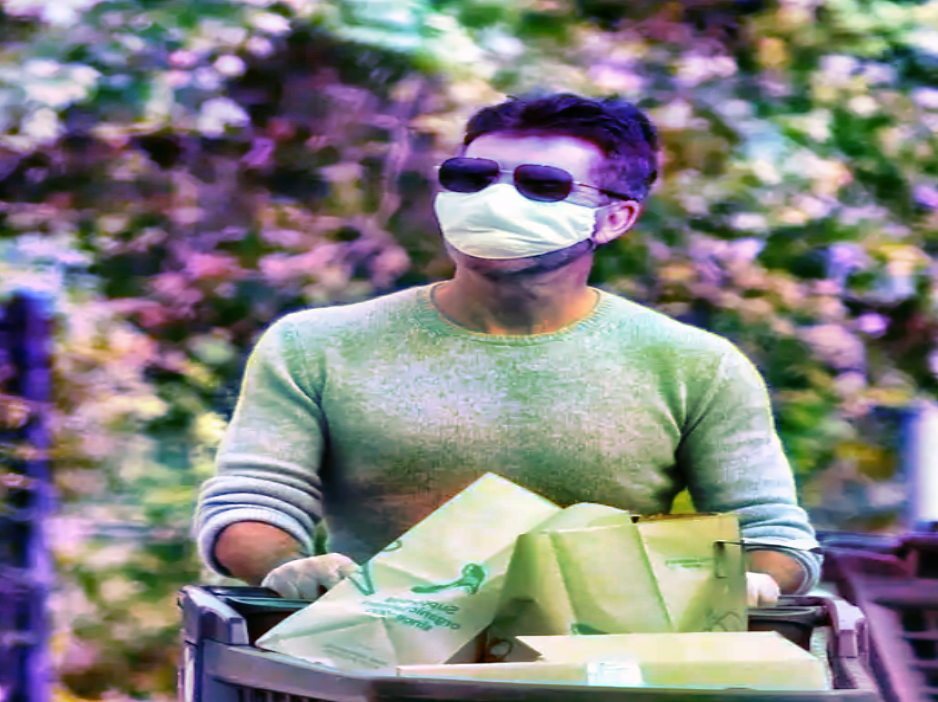mask_weared_incorrect: (424, 98, 661, 280)
